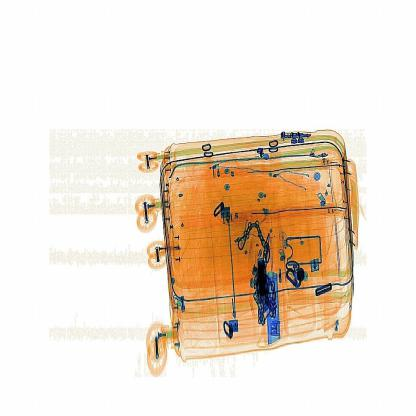pliers: (259, 269, 282, 345)
